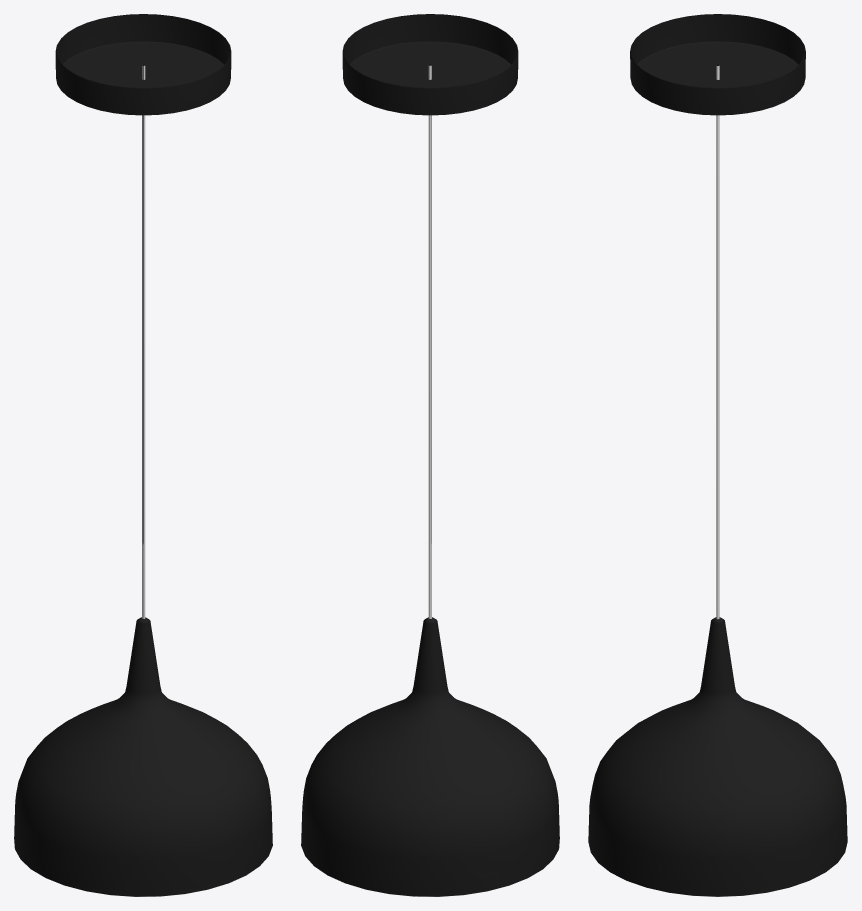
File: Henging_Light_2.fbx
3 views of the same model, side by side, from view 1: azimuth 30°, elevation 25°; view 2: azimuth 150°, elevation 25°; view 3: azimuth 270°, elevation 25° (orthographic).
Visible parts, largest first — view 1: light_outer1; view 2: light_outer1; view 3: light_outer1.
Part boxes in pixels (x1,y1,x2,y2): light_outer1: (14,14,272,896); light_outer1: (301,14,559,896); light_outer1: (588,14,847,896).
Size of the model in its own units: 30.82 by 107 by 30.82.
1 material, 1 textured.
